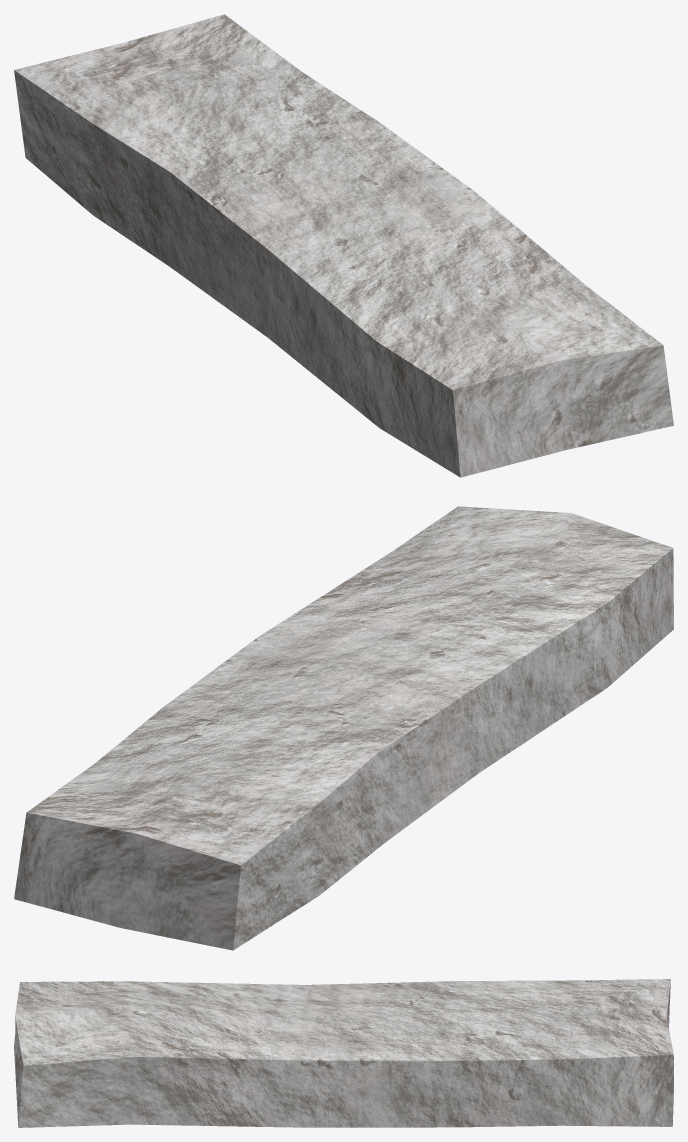
The model's file is step3_LOD1.FBX.
3 renders of one model, top to bottom at view 1: azimuth 30°, elevation 25°; view 2: azimuth 150°, elevation 25°; view 3: azimuth 270°, elevation 25°, orthographic. The views are drawn at different scales.
Visible parts, largest first — view 1: step3_LOD1; view 2: step3_LOD1; view 3: step3_LOD1.
Boxes of the visible parts, x1,y1,x2,y2 form: step3_LOD1: (14,14,673,477); step3_LOD1: (14,506,673,950); step3_LOD1: (14,979,673,1127).
Bounding box in the file's own units: 51.38 × 22.13 × 173.
